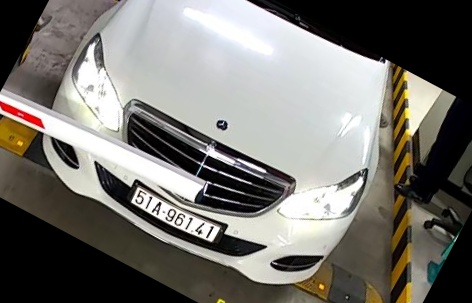plate: (114, 181, 226, 253)
